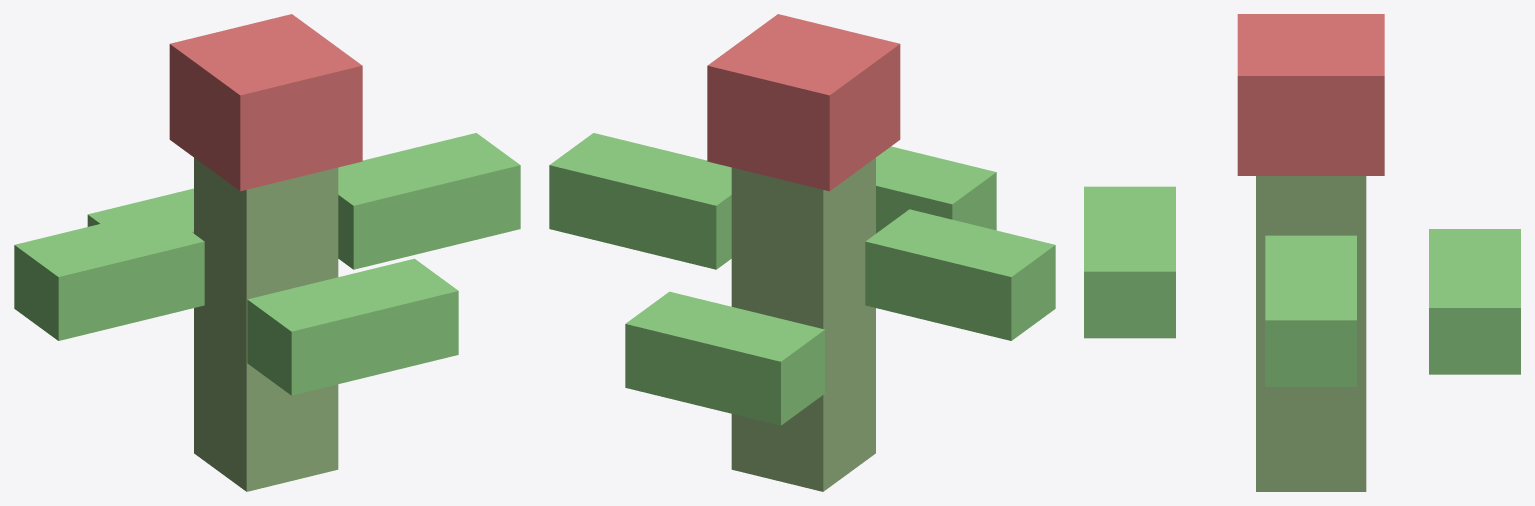
The model's file is Prop_Herb_AMF_Guardthistle_V2.glb.
3 views of the same model, side by side, from view 1: azimuth 30°, elevation 25°; view 2: azimuth 150°, elevation 25°; view 3: azimuth 270°, elevation 25° (orthographic). The views are drawn at different scales.
Visible parts, largest first — view 1: Prop_Herb_AMF_Guardthistle_V2; view 2: Prop_Herb_AMF_Guardthistle_V2; view 3: Prop_Herb_AMF_Guardthistle_V2.
Part boxes in pixels (x1=…): Prop_Herb_AMF_Guardthistle_V2: x1=14, y1=14, x2=520, y2=491; Prop_Herb_AMF_Guardthistle_V2: x1=549, y1=14, x2=1055, y2=491; Prop_Herb_AMF_Guardthistle_V2: x1=1084, y1=14, x2=1520, y2=491.
Bounding box in the file's own units: 0.3024 × 0.2544 × 0.2378.
